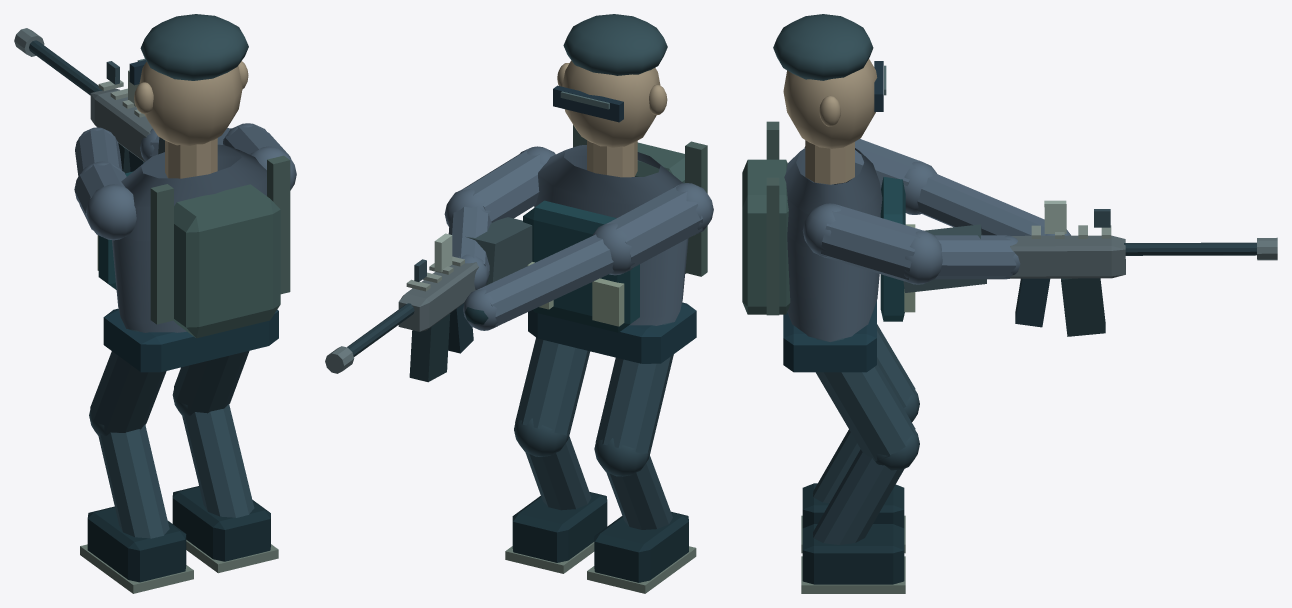
File: greycrow-rifleman.glb
3 renders of one model, left to right at view 1: azimuth 30°, elevation 25°; view 2: azimuth 150°, elevation 25°; view 3: azimuth 270°, elevation 25°, orthographic. The views are drawn at different scales.
Visible parts, largest first — view 1: greycrow-rifleman; view 2: greycrow-rifleman; view 3: greycrow-rifleman.
Boxes of the visible parts, x1,y1,x2,y2 form: greycrow-rifleman: (14, 14, 296, 593); greycrow-rifleman: (325, 14, 713, 593); greycrow-rifleman: (742, 14, 1277, 593).
Size of the model in its own units: 0.9381 by 2.15 by 1.95.
